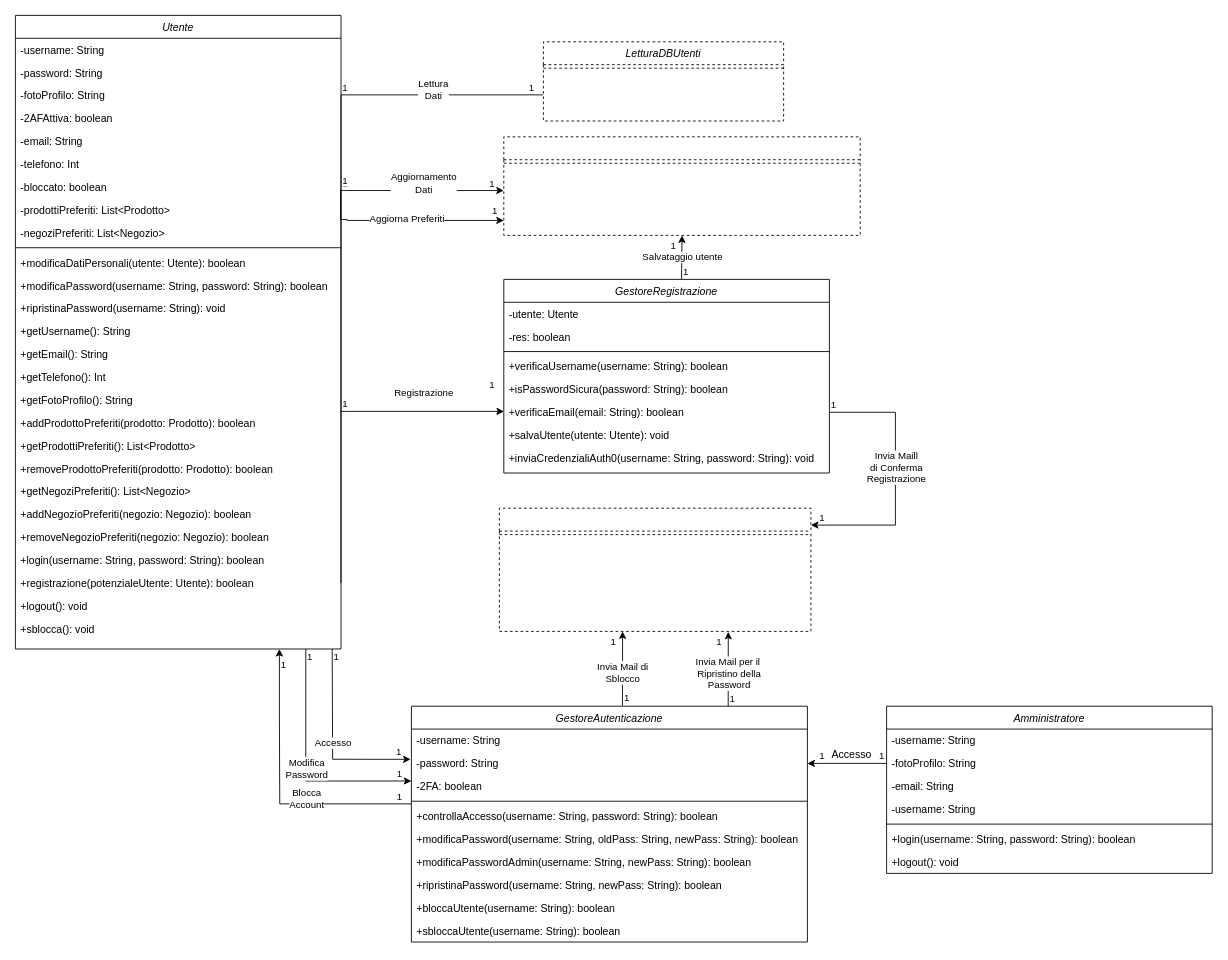
Some shapes in this 1228 by 960 pixel diagram are drawn without their labels. Here are the shapes that lost their labels. From the top down, the centre of each, then its label:
the point at 681,185: ScritturaDBUtenti
the point at 655,569: InterfacciaGmail
